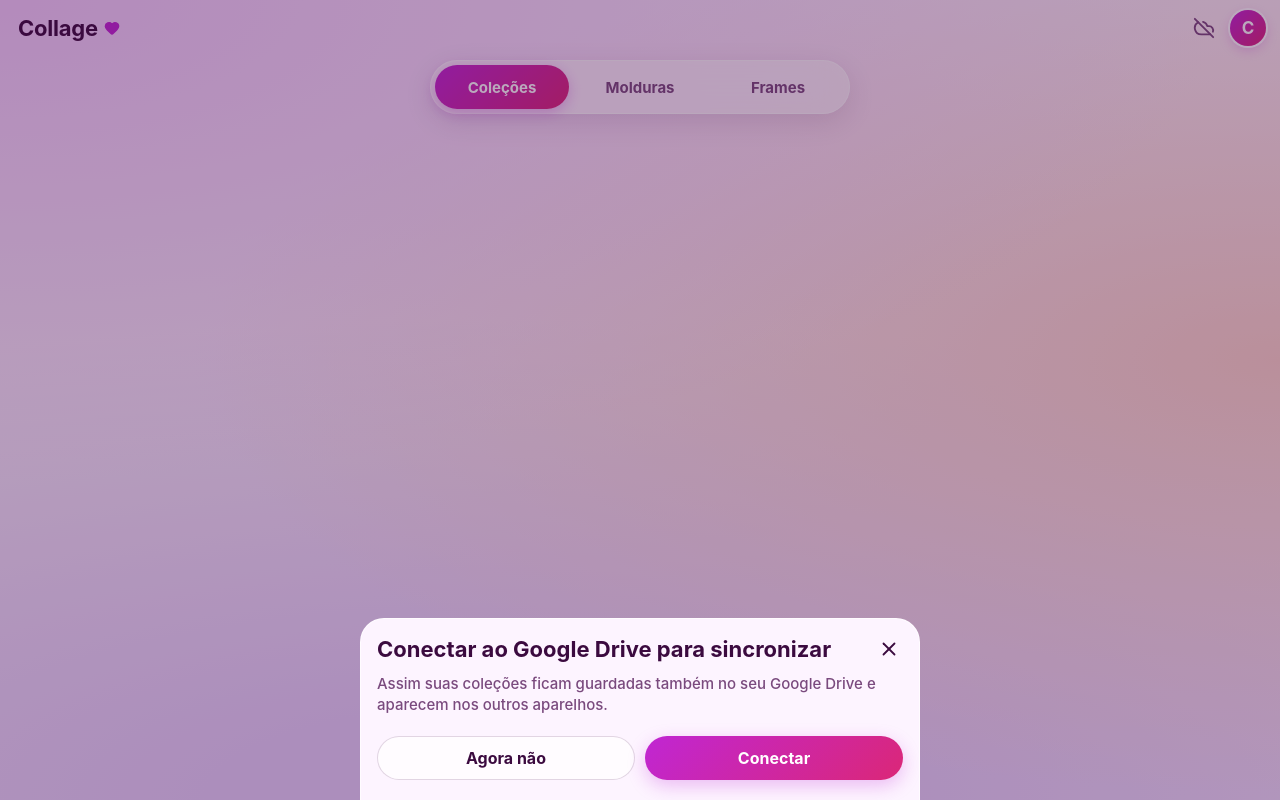
it: App › offers once, on the collections, to connect the Drive
Later steps or results of the test are not shown.
Expected: the dialog "Conectar ao Google Drive para sincronizar" shows "Assim suas coleções ficam guardadas também no seu Google Drive e aparecem nos outros aparelhos.", 377,674 -> 876,714
Expected: the button "Conectar" is shown, 645,736 -> 903,780
Click the button "Agora não" at (506, 758), box 377,736 -> 635,780
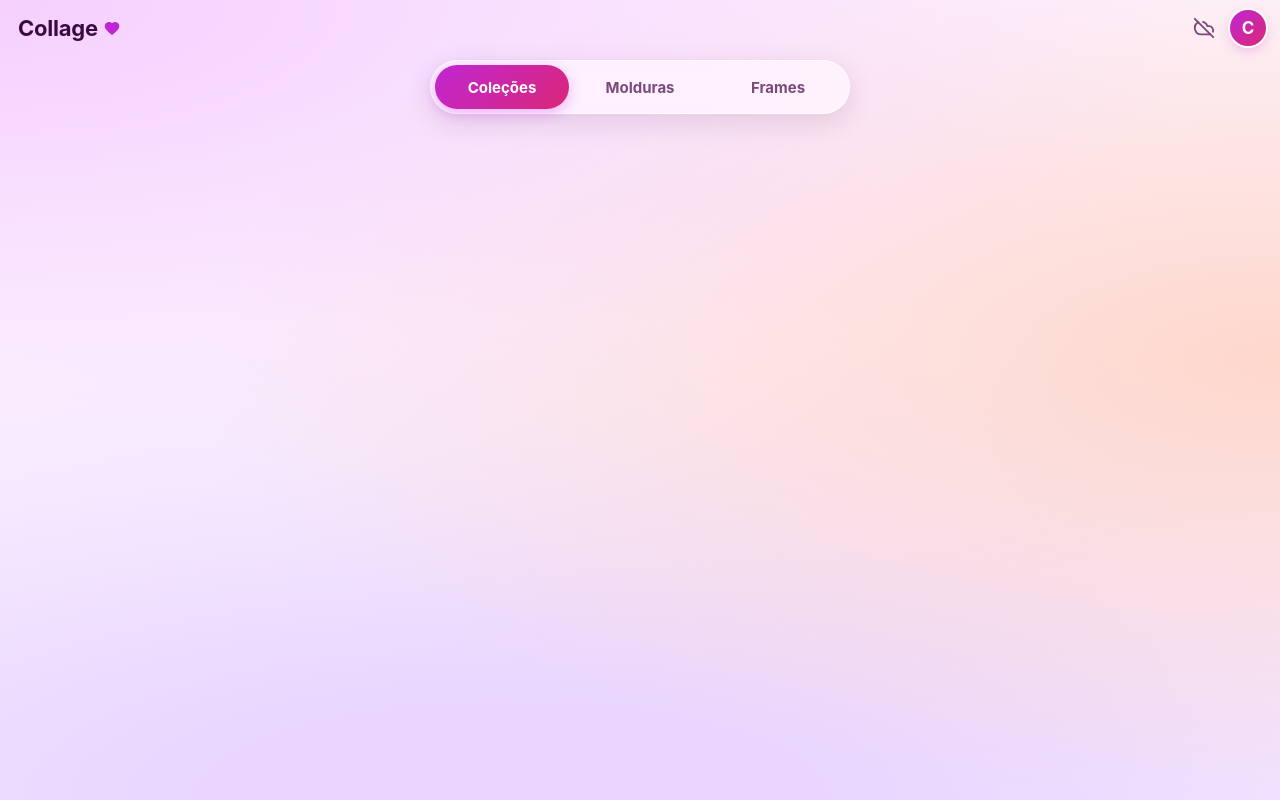
Expected: the heading "Conectar ao Google Drive para sincronizar" is gone
